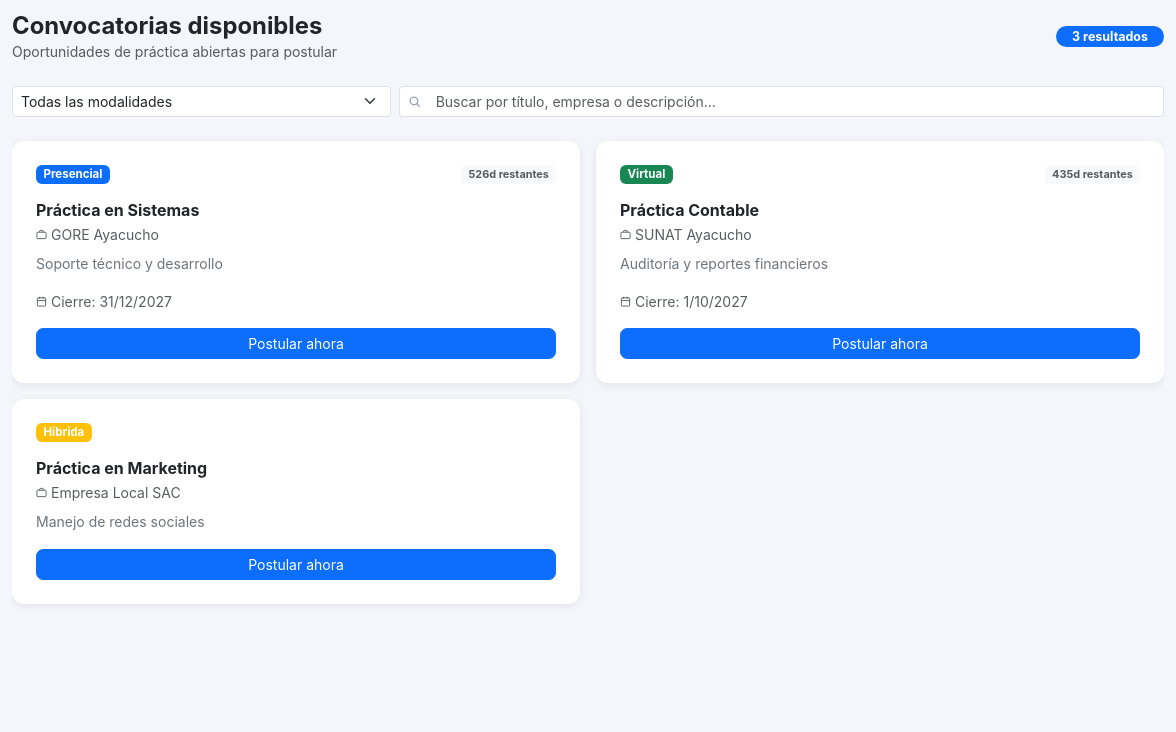
it: Convocatorias — filtros › filtra por búsqueda de texto y encuentra por título
In the field with placeholder "Buscar por título, empresa o descripción...": [796, 101] box x1=428 y1=86 x2=1164 y2=117, type "Contable"
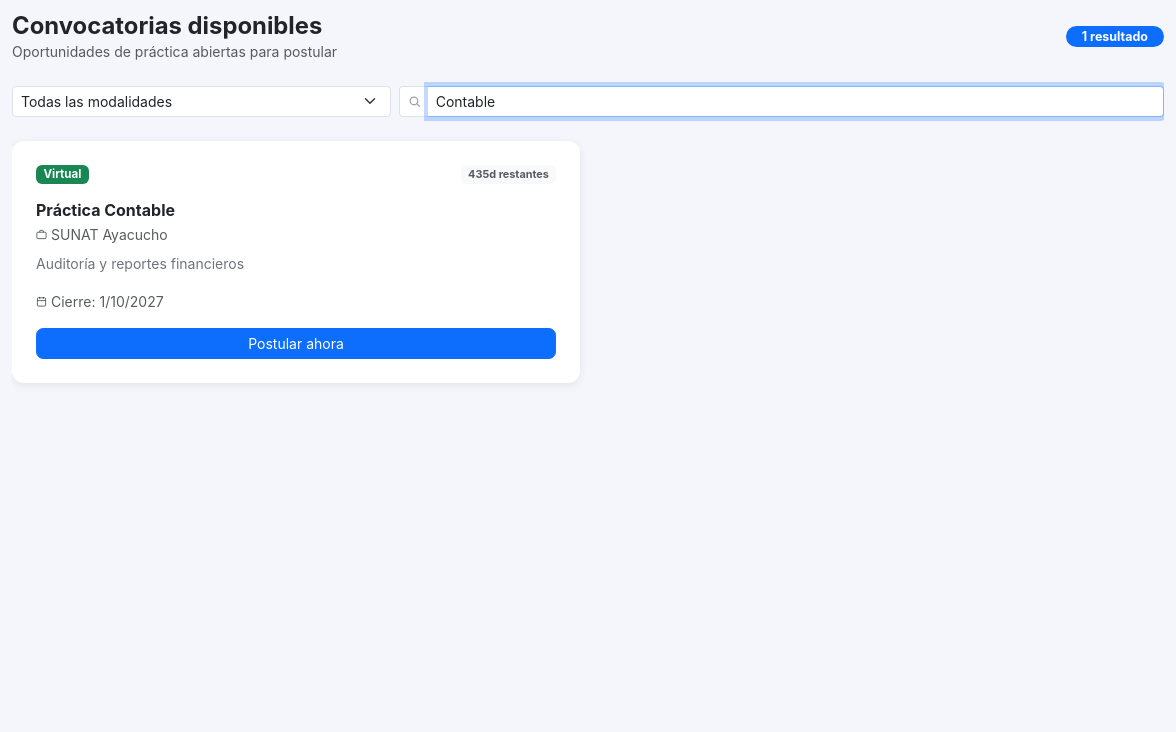
Check: the heading "Práctica Contable" is shown, box x1=36 y1=200 x2=175 y2=220
Check: the heading "Práctica en Sistemas" is gone
